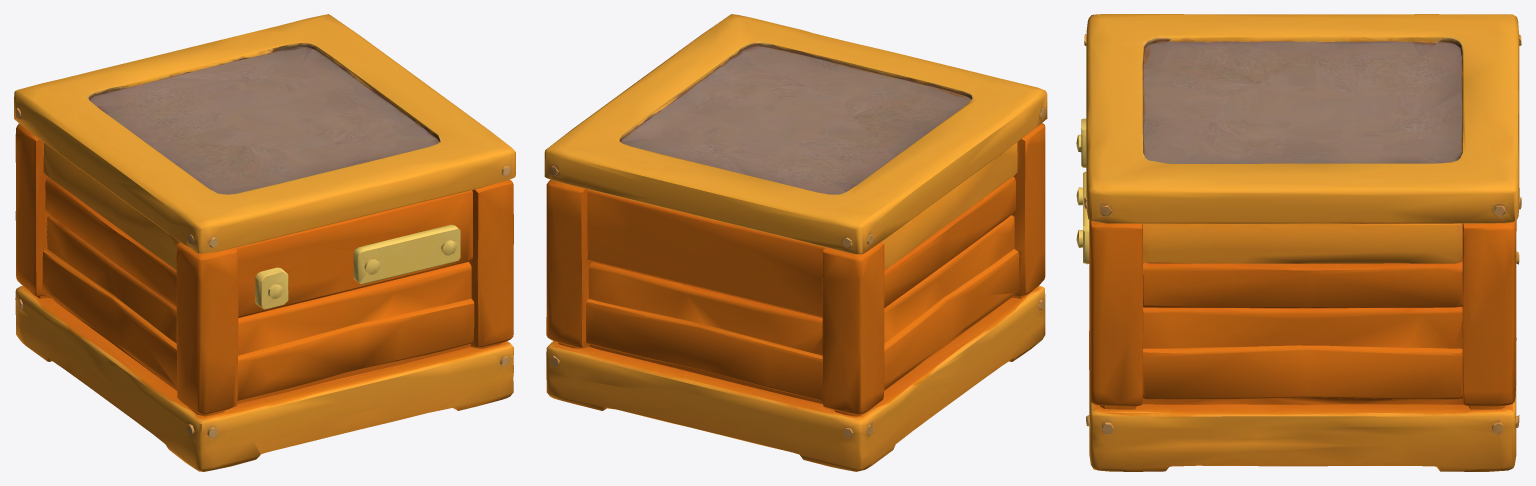
The model's file is crate.glb.
3 renders of one model, left to right at view 1: azimuth 30°, elevation 25°; view 2: azimuth 150°, elevation 25°; view 3: azimuth 270°, elevation 25°, orthographic. The views are drawn at different scales.
Parts seen in each view (by area): view 1: tripo_node_af1b977f-9f24-4901-af7f-9ad478cf84cb; view 2: tripo_node_af1b977f-9f24-4901-af7f-9ad478cf84cb; view 3: tripo_node_af1b977f-9f24-4901-af7f-9ad478cf84cb.
Boxes of the visible parts, x1=… form: tripo_node_af1b977f-9f24-4901-af7f-9ad478cf84cb: x1=14, y1=14, x2=515, y2=471; tripo_node_af1b977f-9f24-4901-af7f-9ad478cf84cb: x1=544, y1=14, x2=1047, y2=471; tripo_node_af1b977f-9f24-4901-af7f-9ad478cf84cb: x1=1076, y1=14, x2=1521, y2=471.
Bounding box in the file's own units: 0.8104 × 0.6 × 0.8478.
Materials: 1 (1 with a texture image).
